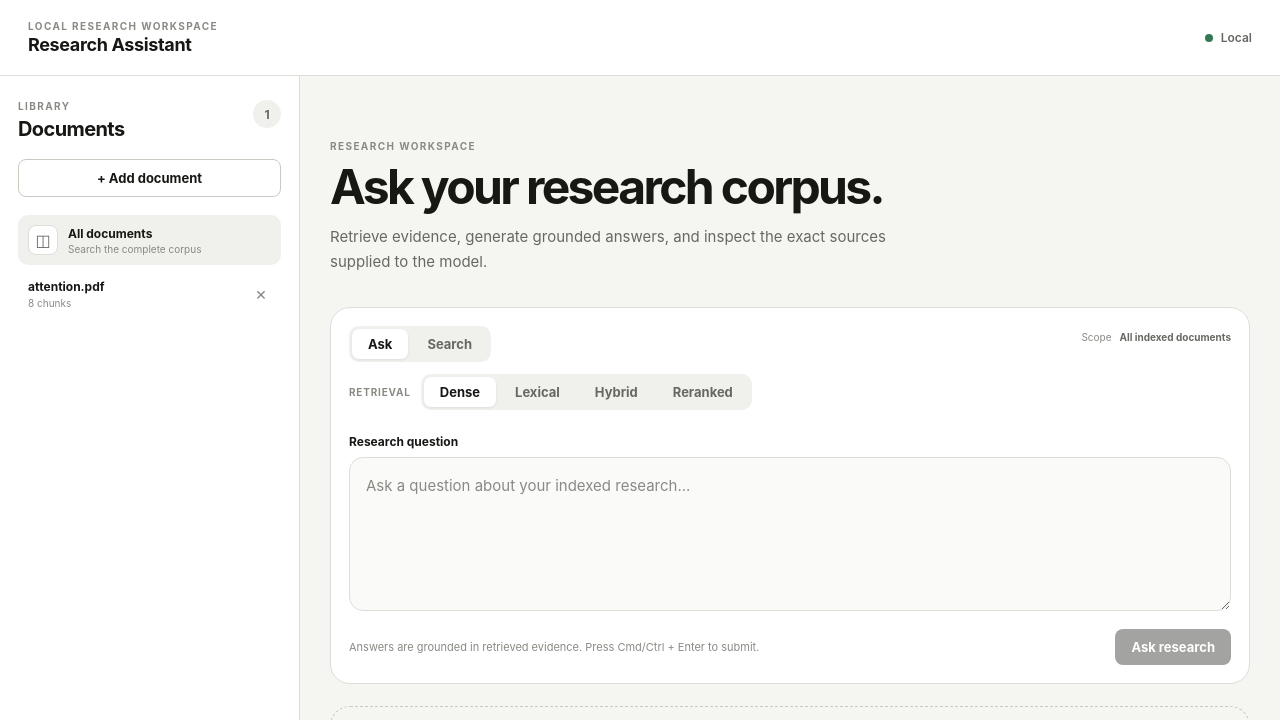
App › returns to the full corpus when the selected document is deleted
The image size is (1280, 720).
Click the button with aria-label "Select attention.pdf" at (130, 294), box [18,269,242,319]
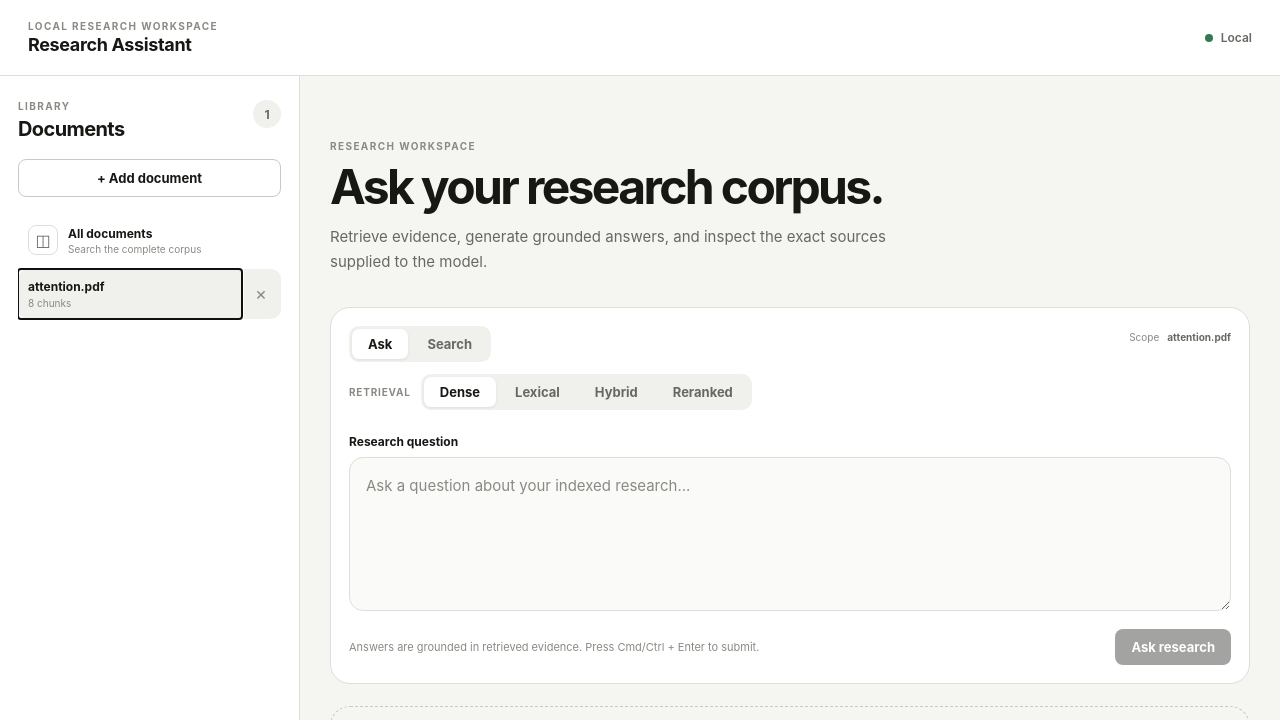
Expected: the text titled "attention.pdf" next to "Scope" is shown, [1167,331,1231,343]
Click the button named "Delete attention.pdf" at (261, 294), box [246,279,276,309]
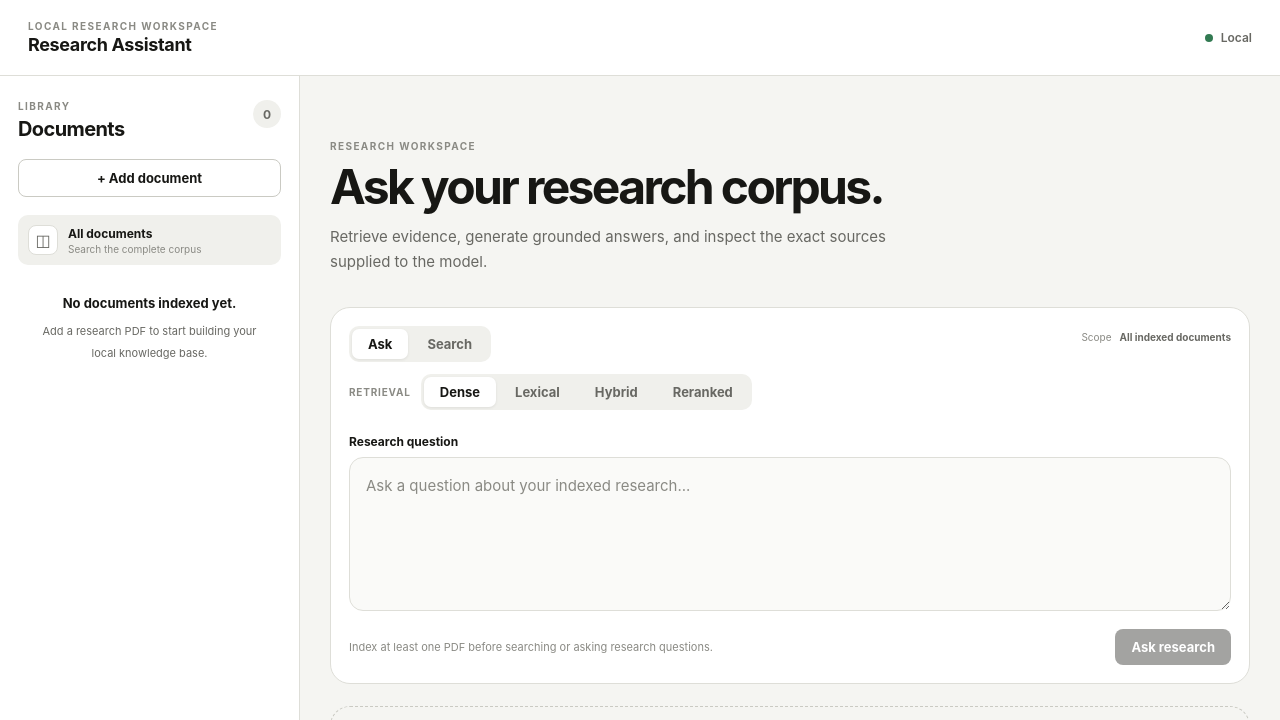
Expected: the text titled "All indexed documents" is shown, [1120,331,1231,343]
